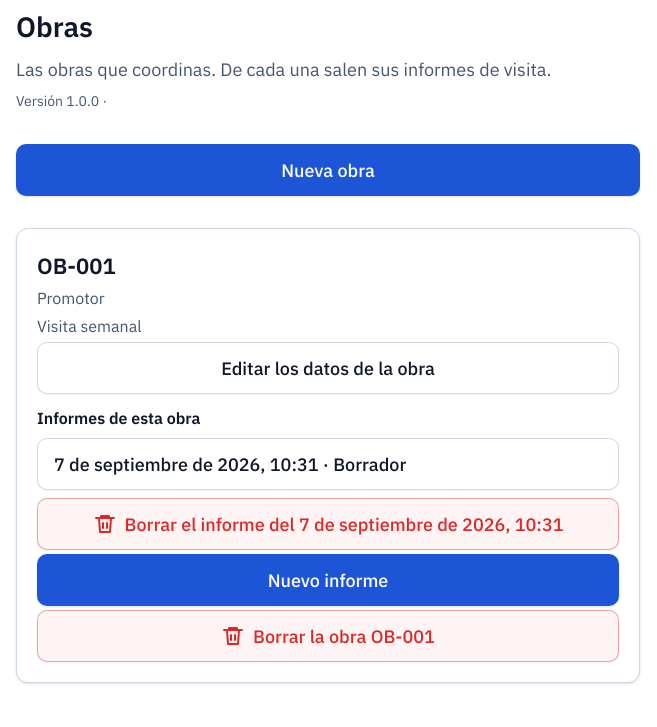
ObrasPage › borra un borrador, pero pidiendo confirmación antes
Primer toque: solo pregunta, no borra nada.
What coordinates should you click on to do the following:
click the button "Borrar el informe"
I would click on:
 (328, 524)
Its box is [37,498,619,550].
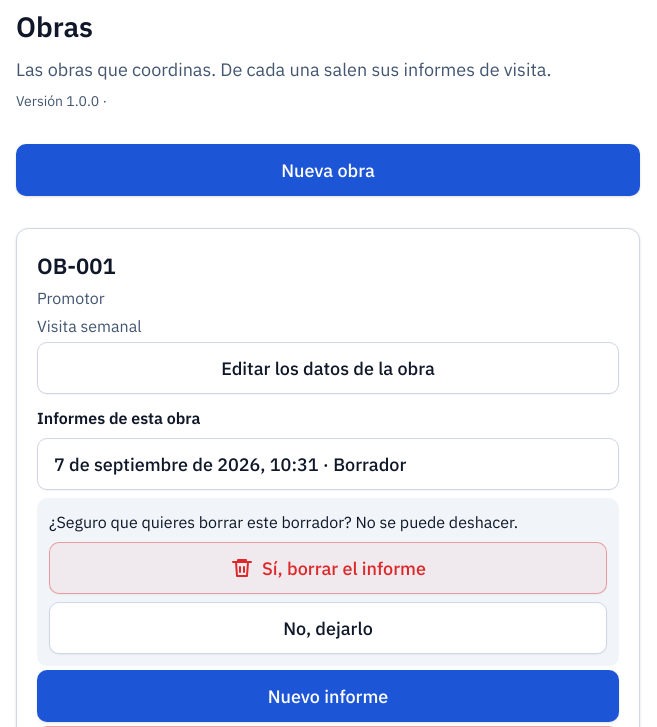
Check: the text "¿Seguro que quieres borrar" is shown, box [49,512,352,532]
Segundo toque: ahora sí.
What coordinates should you click on to do the following:
click the button "Sí, borrar el informe"
I would click on:
 (328, 568)
Its box is [49,542,607,594].
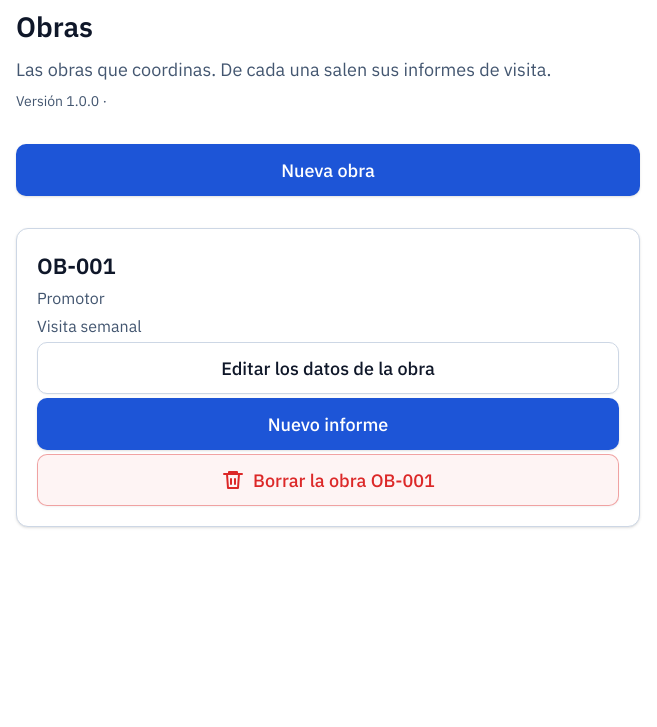
Check: the link "Borrador" is gone
